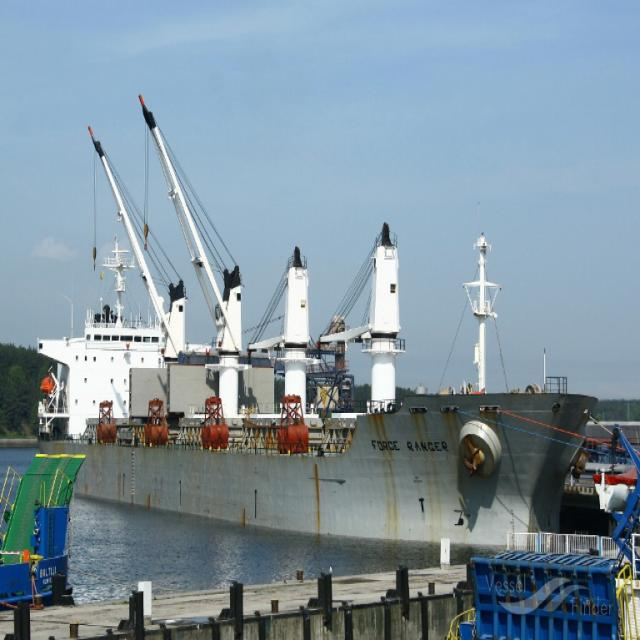OCR: (365, 430, 451, 461)
